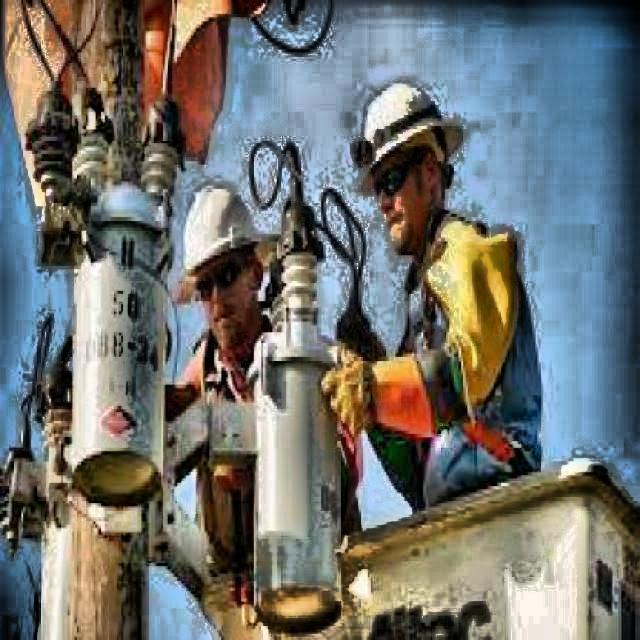safety_helmet: (348, 79, 471, 196), (175, 175, 280, 287)
safety_jacket: (391, 219, 549, 485)
